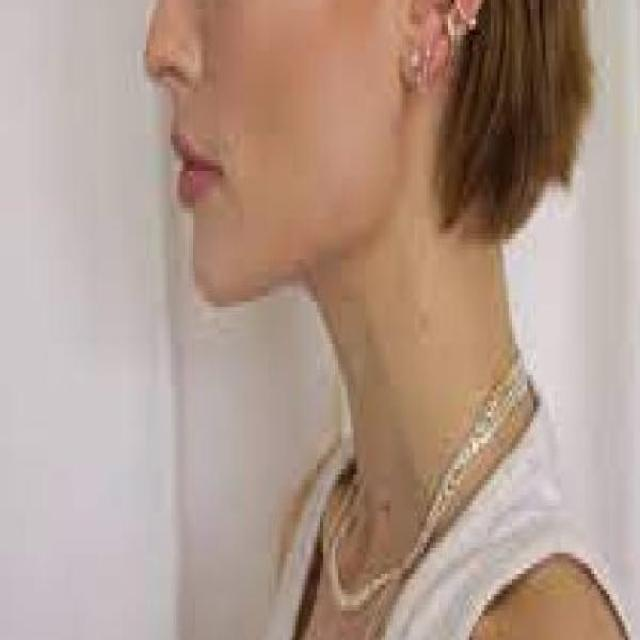Healthy: (302, 252, 515, 361)
